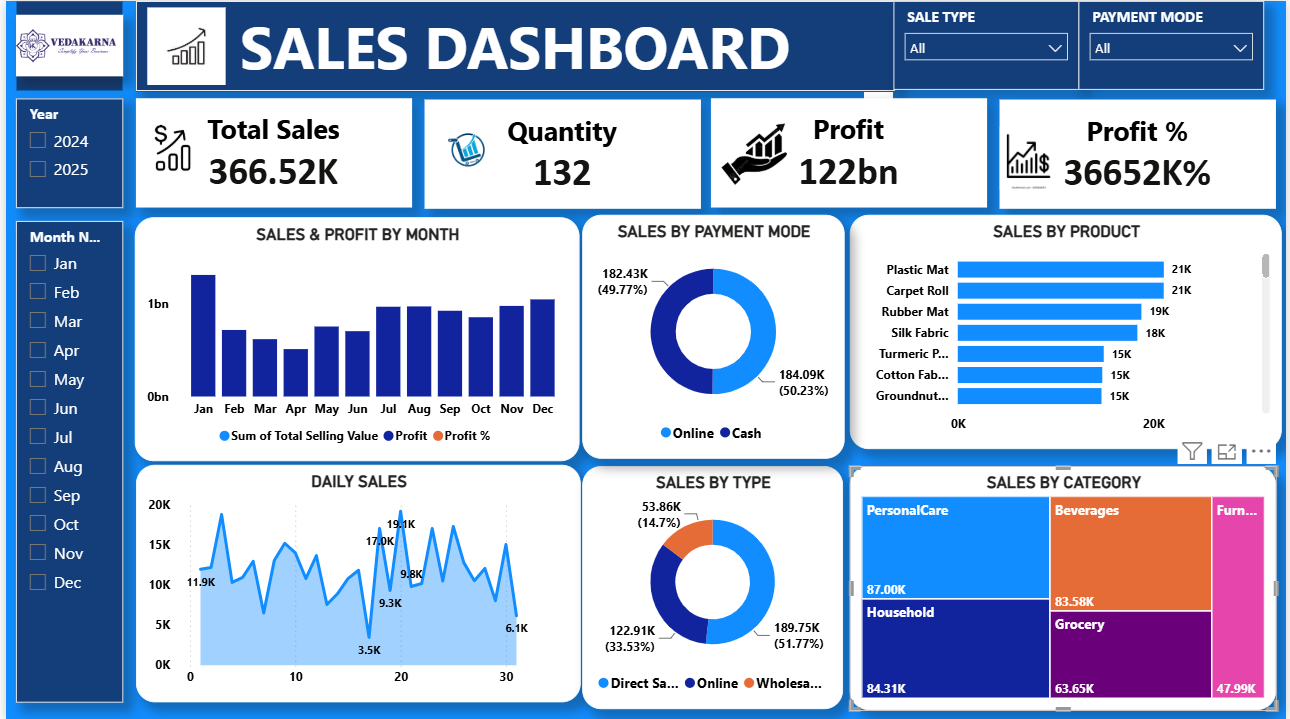

The dashboard page shown, as its layout file describes it:
{"tool":"powerbi","page":{"name":"Page 1","canvas":[1280,720],"ordinal":0},"visuals":[{"type":"shape","box":[10,0,107,90],"z":0},{"type":"image","box":[9.6,13.7,107,61.7],"z":1000},{"type":"textbox","box":[130.4,0,758,90.6],"z":2000},{"type":"image","box":[141.3,0,78.2,90.6],"z":3000},{"type":"slicer","fields":{"Values":["InputData.Year"]},"box":[9.6,97.4,107,109.8],"z":4000},{"type":"slicer","fields":{"Values":["InputData.Month Name"]},"box":[9.6,219.6,107,481.6],"z":5000},{"type":"slicer","fields":{"Values":["InputData.SALE TYPE"]},"box":[887.8,0,185.2,89.2],"z":6000},{"type":"slicer","fields":{"Values":["InputData.PAYMENT MODE"]},"box":[1073.1,0,185.2,89.2],"z":7000},{"type":"cardVisual","fields":{"Data":["Sum(InputData.Total Selling Value)"]},"box":[130.4,97.4,275.8,108.4],"z":8000},{"type":"cardVisual","fields":{"Data":["Sum(InputData.QUANTITY)"]},"box":[418.5,98.8,275.8,108.4],"z":9000},{"type":"cardVisual","fields":{"Data":["InputData.Profit"]},"box":[705.3,97.4,275.8,108.4],"z":10000},{"type":"cardVisual","fields":{"Data":["InputData.Profit %"]},"box":[993.5,98.8,275.8,108.4],"z":11000},{"type":"image","box":[141.3,118,50.8,59],"z":12000},{"type":"image","box":[430.9,112.5,61.7,72.7],"z":13000},{"type":"image","box":[705.3,98.8,86.4,108.4],"z":14000},{"type":"image","box":[993.5,112.5,57.6,89.2],"z":15000},{"type":"columnChart","title":"SALES & PROFIT BY MONTH ","fields":{"Y":["Sum(InputData.Total Selling Value)","InputData.Profit","InputData.Profit %","InputData.Profit %"],"Category":["InputData.Month Name"]},"box":[129,216.8,444.6,244.3],"z":16000},{"type":"areaChart","title":"DAILY SALES","fields":{"Category":["InputData.Day"],"Y":["Sum(InputData.Total Selling Value)"]},"box":[130.4,463.8,444.6,237.4],"z":17000},{"type":"clusteredBarChart","title":"SALES BY PRODUCT","fields":{"Y":["Sum(InputData.Total Selling Value)"],"Category":["InputData.MasterData.PRODUCT"]},"box":[843.9,214.1,432.2,234.6],"z":18000},{"type":"treemap","title":"SALES BY  CATEGORY","fields":{"Values":["Sum(InputData.Total Selling Value)"],"Group":["InputData.MasterData.CATEGORY"]},"box":[843.9,465.2,426.8,244.3],"z":19000},{"type":"donutChart","title":" SALES BY TYPE","fields":{"Y":["Sum(InputData.Total Selling Value)"],"Category":["InputData.SALE TYPE"]},"box":[576.3,465.2,260.7,242.9],"z":20000},{"type":"donutChart","title":"SALES BY PAYMENT MODE","fields":{"Y":["Sum(InputData.Total Selling Value)"],"Category":["InputData.PAYMENT MODE"]},"box":[576.3,214.1,262.1,244.3],"z":21000}]}

Visuals, with their boxes in screenshot pixels (x1, y1, x2, y2), scaled from the page's 1280x720 canvas onto the 1290x719 screenshot:
shape: {"x1": 10, "y1": 0, "x2": 118, "y2": 90}
image: {"x1": 10, "y1": 14, "x2": 118, "y2": 75}
textbox: {"x1": 131, "y1": 0, "x2": 895, "y2": 90}
image: {"x1": 142, "y1": 0, "x2": 221, "y2": 90}
slicer - InputData.Year: {"x1": 10, "y1": 97, "x2": 118, "y2": 207}
slicer - InputData.Month Name: {"x1": 10, "y1": 219, "x2": 118, "y2": 700}
slicer - InputData.SALE TYPE: {"x1": 895, "y1": 0, "x2": 1081, "y2": 89}
slicer - InputData.PAYMENT MODE: {"x1": 1081, "y1": 0, "x2": 1268, "y2": 89}
cardVisual - Sum(InputData.Total Selling Value): {"x1": 131, "y1": 97, "x2": 409, "y2": 206}
cardVisual - Sum(InputData.QUANTITY): {"x1": 422, "y1": 99, "x2": 700, "y2": 207}
cardVisual - InputData.Profit: {"x1": 711, "y1": 97, "x2": 989, "y2": 206}
cardVisual - InputData.Profit %: {"x1": 1001, "y1": 99, "x2": 1279, "y2": 207}
image: {"x1": 142, "y1": 118, "x2": 194, "y2": 177}
image: {"x1": 434, "y1": 112, "x2": 496, "y2": 185}
image: {"x1": 711, "y1": 99, "x2": 798, "y2": 207}
image: {"x1": 1001, "y1": 112, "x2": 1059, "y2": 201}
"SALES & PROFIT BY MONTH " columnChart: {"x1": 130, "y1": 216, "x2": 578, "y2": 460}
"DAILY SALES" areaChart: {"x1": 131, "y1": 463, "x2": 579, "y2": 700}
"SALES BY PRODUCT" clusteredBarChart: {"x1": 850, "y1": 214, "x2": 1286, "y2": 448}
"SALES BY  CATEGORY" treemap: {"x1": 850, "y1": 465, "x2": 1281, "y2": 709}
" SALES BY TYPE" donutChart: {"x1": 581, "y1": 465, "x2": 844, "y2": 707}
"SALES BY PAYMENT MODE" donutChart: {"x1": 581, "y1": 214, "x2": 845, "y2": 458}
